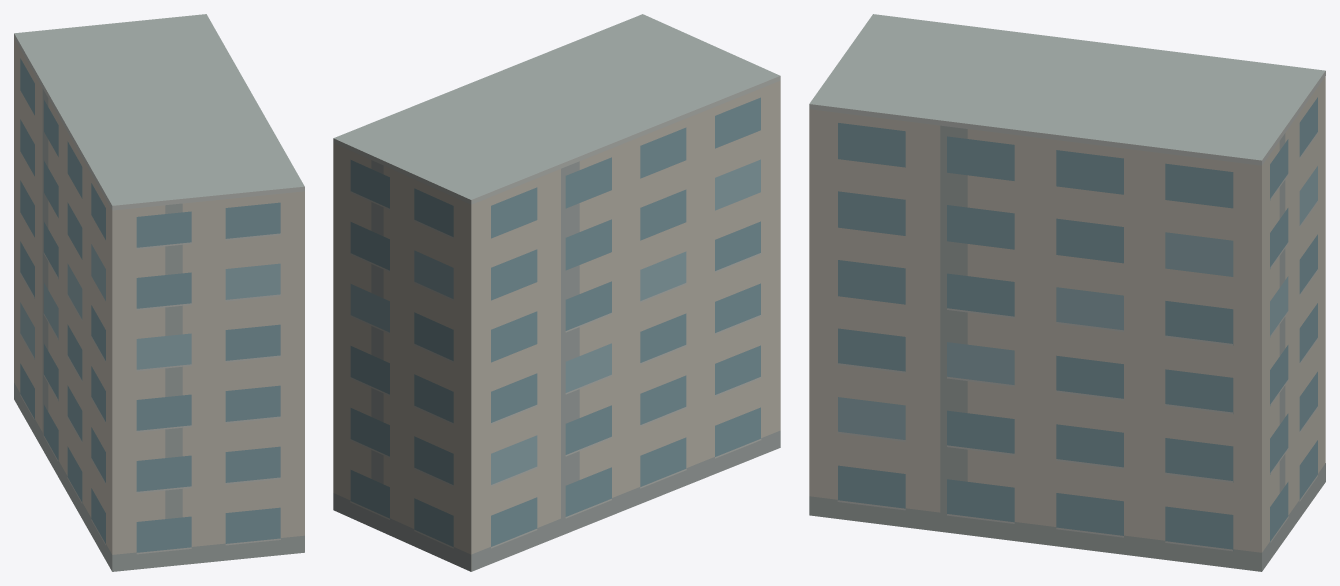
The model's file is survey-upis-32874178.glb.
3 renders of one model, left to right at view 1: azimuth 30°, elevation 25°; view 2: azimuth 150°, elevation 25°; view 3: azimuth 270°, elevation 25°, orthographic. The views are drawn at different scales.
Visible parts, largest first — view 1: survey-upis-32874178.tmp; view 2: survey-upis-32874178.tmp; view 3: survey-upis-32874178.tmp.
Part boxes in pixels (x1,y1,x2,y2): survey-upis-32874178.tmp: (14,14,304,571); survey-upis-32874178.tmp: (333,14,780,571); survey-upis-32874178.tmp: (809,14,1325,571).
Bounding box in the file's own units: 14.68 × 19.2 × 21.86.
